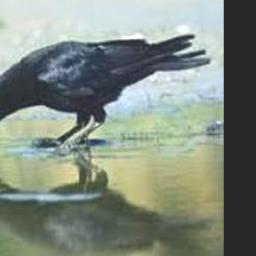Crow: (0, 32, 212, 149)
